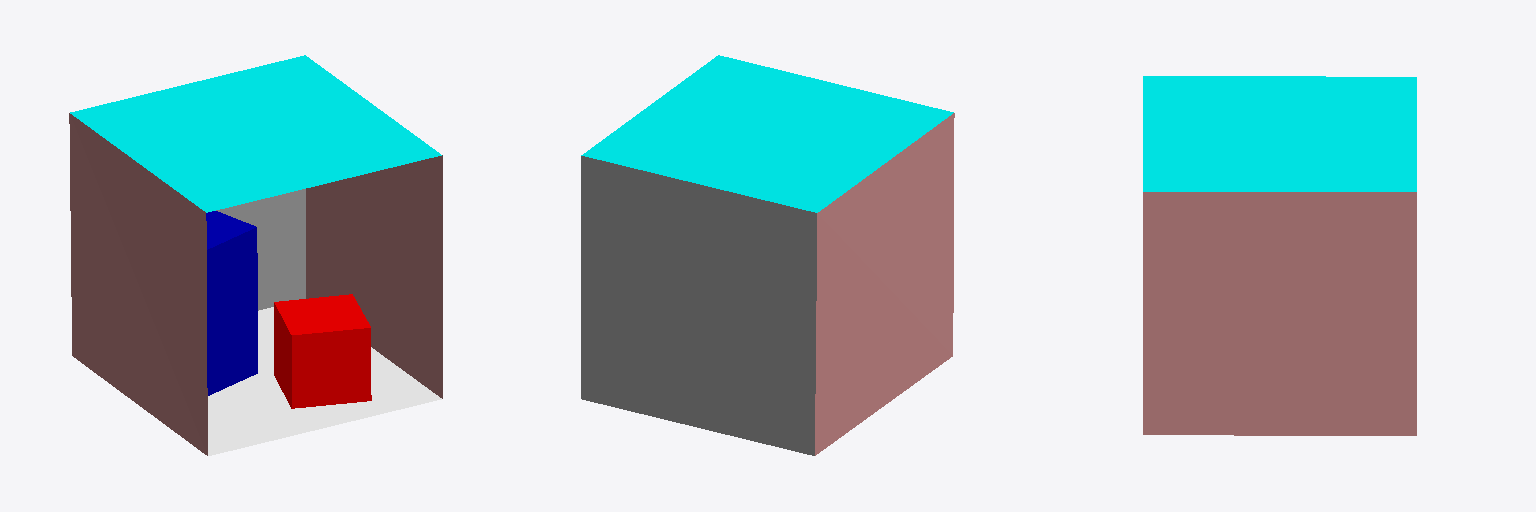
The model's file is textured-cornell-box.obj.
3 renders of one model, left to right at view 1: azimuth 30°, elevation 25°; view 2: azimuth 150°, elevation 25°; view 3: azimuth 270°, elevation 25°, orthographic.
Parts seen in each view (by area): view 1: left_wall, ceiling, right_wall, floor, short_box, tall_box, back_wall; view 2: back_wall, left_wall, ceiling; view 3: right_wall, ceiling.
Boxes of the visible parts, x1=… form: left_wall: x1=69, y1=113, x2=207, y2=455; ceiling: x1=70, y1=55, x2=441, y2=212; right_wall: x1=306, y1=155, x2=442, y2=398; floor: x1=208, y1=307, x2=441, y2=455; short_box: x1=274, y1=294, x2=371, y2=408; tall_box: x1=206, y1=211, x2=257, y2=395; back_wall: x1=216, y1=189, x2=305, y2=310; back_wall: x1=581, y1=156, x2=816, y2=455; left_wall: x1=815, y1=113, x2=954, y2=455; ceiling: x1=581, y1=55, x2=953, y2=212; right_wall: x1=1143, y1=192, x2=1416, y2=435; ceiling: x1=1143, y1=76, x2=1416, y2=191.
Bounding box in the file's own units: 5.56 × 5.49 × 5.6.